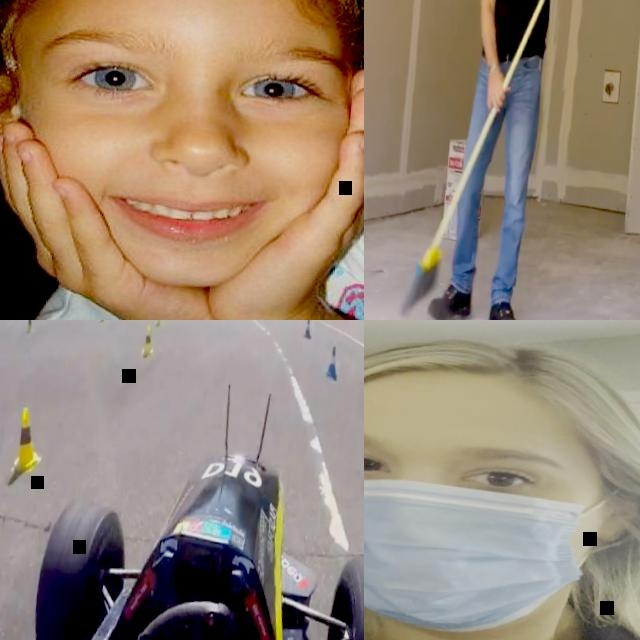Mask: (364, 473, 576, 632)
NO-Hardhat: (364, 330, 640, 456)
NO-Mask: (0, 87, 351, 299)
NO-Safety Vest: (0, 91, 364, 320), (482, 0, 562, 66)
Person: (0, 0, 364, 320), (364, 320, 640, 640), (425, 0, 599, 320)
Safety Cone: (15, 406, 41, 471), (139, 322, 157, 361), (322, 343, 342, 376), (303, 320, 314, 347), (25, 320, 34, 334), (154, 320, 161, 326)
vehicle: (0, 429, 364, 640)
